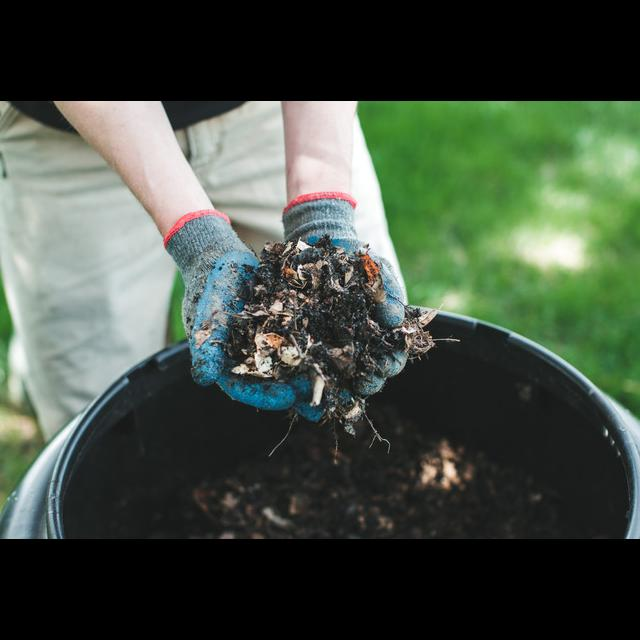food_waste: (247, 226, 363, 362), (242, 472, 435, 535), (430, 452, 546, 539)
